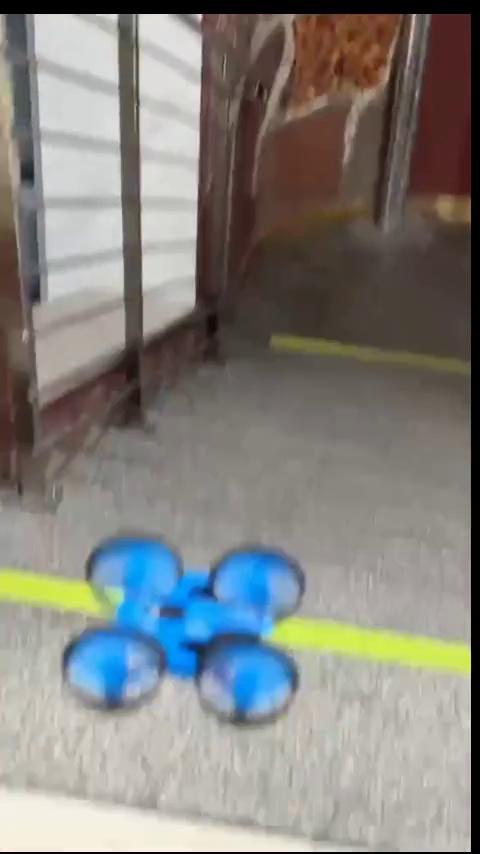drone: (69, 539, 300, 721)
